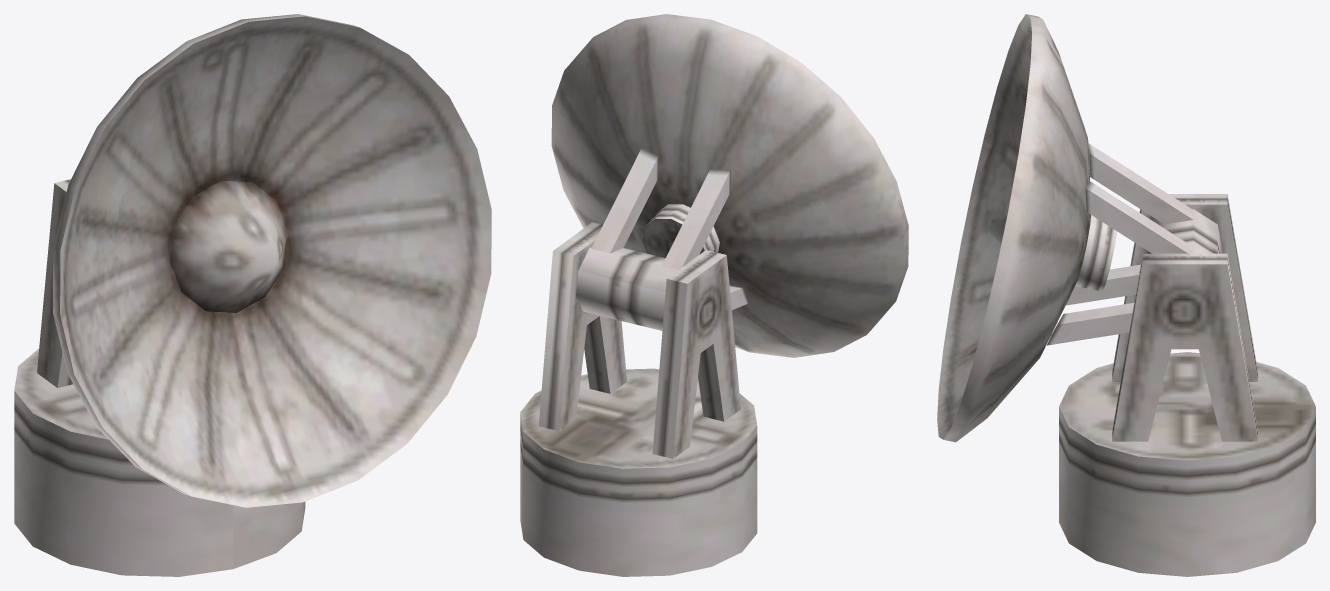
File: yt1300_radar_s01_l1.fbx
The picture shows the model from 3 angles, left to right: view 1: azimuth 30°, elevation 25°; view 2: azimuth 150°, elevation 25°; view 3: azimuth 270°, elevation 25°; orthographic projection. The views are drawn at different scales.
Parts seen in each view (by area): view 1: mesh_node; view 2: mesh_node; view 3: mesh_node.
Part boxes in pixels (x1,y1,x2,y2): mesh_node: (14, 14, 491, 576); mesh_node: (520, 14, 908, 576); mesh_node: (937, 14, 1315, 576).
Size of the model in its own units: 4.07 by 5.04 by 3.54.
1 material, 1 textured.
